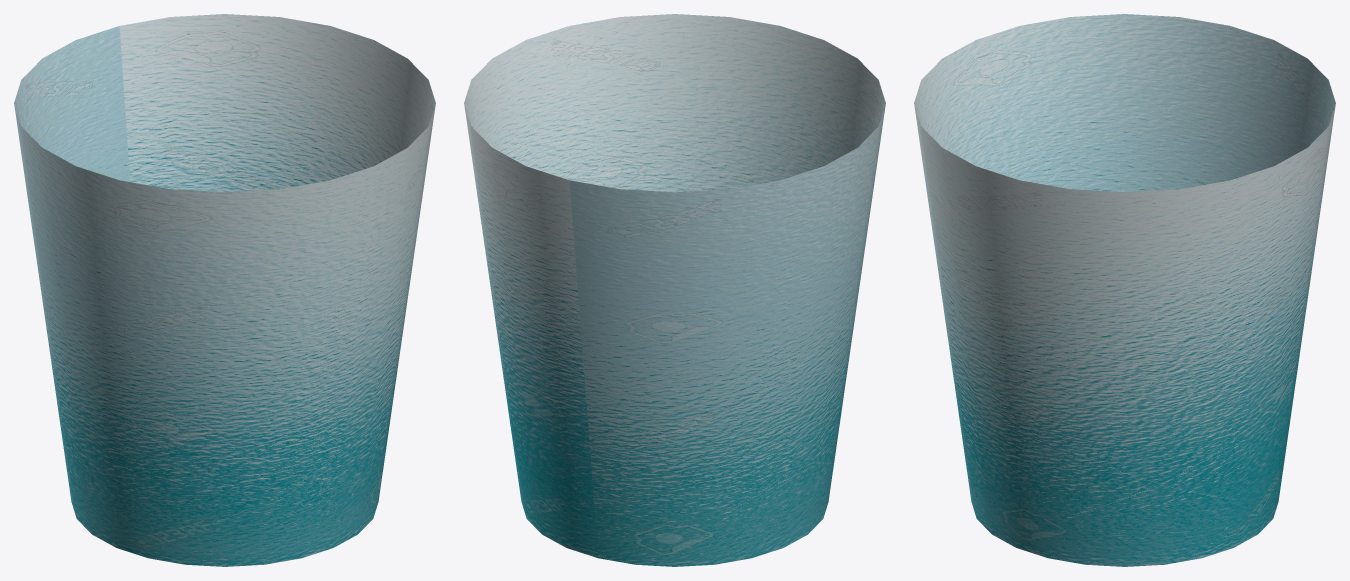
Rendered from koop1.FBX.
The picture shows the model from 3 angles, left to right: view 1: azimuth 30°, elevation 25°; view 2: azimuth 150°, elevation 25°; view 3: azimuth 270°, elevation 25°; orthographic projection.
Visible parts, largest first — view 1: Cone001; view 2: Cone001; view 3: Cone001.
Boxes of the visible parts, x1,y1,x2,y2 form: Cone001: (14, 14, 435, 566); Cone001: (464, 14, 885, 566); Cone001: (914, 14, 1335, 566).
Bounding box in the file's own units: 10.58 × 10.58 × 11.04.
1 material, 1 textured.
